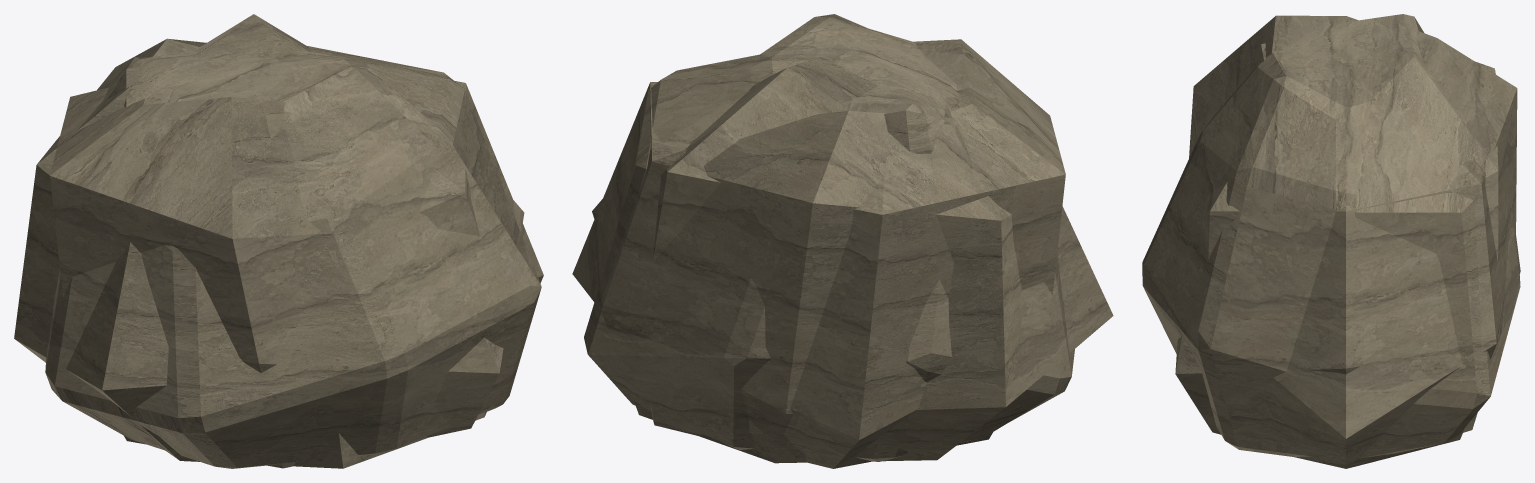
File: env_rock_boulder_a_v001.glb
3 renders of one model, left to right at view 1: azimuth 30°, elevation 25°; view 2: azimuth 150°, elevation 25°; view 3: azimuth 270°, elevation 25°, orthographic. The views are drawn at different scales.
Parts seen in each view (by area): view 1: env_rock_boulder_a_LOD0_mesh, env_rock_boulder_a_LOD2_mesh, env_rock_boulder_a_LOD1_mesh; view 2: env_rock_boulder_a_LOD1_mesh, env_rock_boulder_a_LOD2_mesh, env_rock_boulder_a_LOD0_mesh; view 3: env_rock_boulder_a_LOD0_mesh, env_rock_boulder_a_LOD1_mesh, env_rock_boulder_a_LOD2_mesh.
Boxes of the visible parts, left/top/right/bottom form: env_rock_boulder_a_LOD0_mesh: left=45, top=46, right=541, bottom=468; env_rock_boulder_a_LOD2_mesh: left=50, top=14, right=524, bottom=468; env_rock_boulder_a_LOD1_mesh: left=14, top=38, right=543, bottom=468; env_rock_boulder_a_LOD1_mesh: left=572, top=82, right=1113, bottom=463; env_rock_boulder_a_LOD2_mesh: left=592, top=39, right=1065, bottom=468; env_rock_boulder_a_LOD0_mesh: left=584, top=14, right=1074, bottom=461; env_rock_boulder_a_LOD0_mesh: left=1142, top=14, right=1520, bottom=458; env_rock_boulder_a_LOD1_mesh: left=1202, top=30, right=1517, bottom=468; env_rock_boulder_a_LOD2_mesh: left=1175, top=15, right=1520, bottom=434.
Bounding box in the file's own units: 2.21 × 1.53 × 1.6.
Materials: 3 (3 with a texture image).
